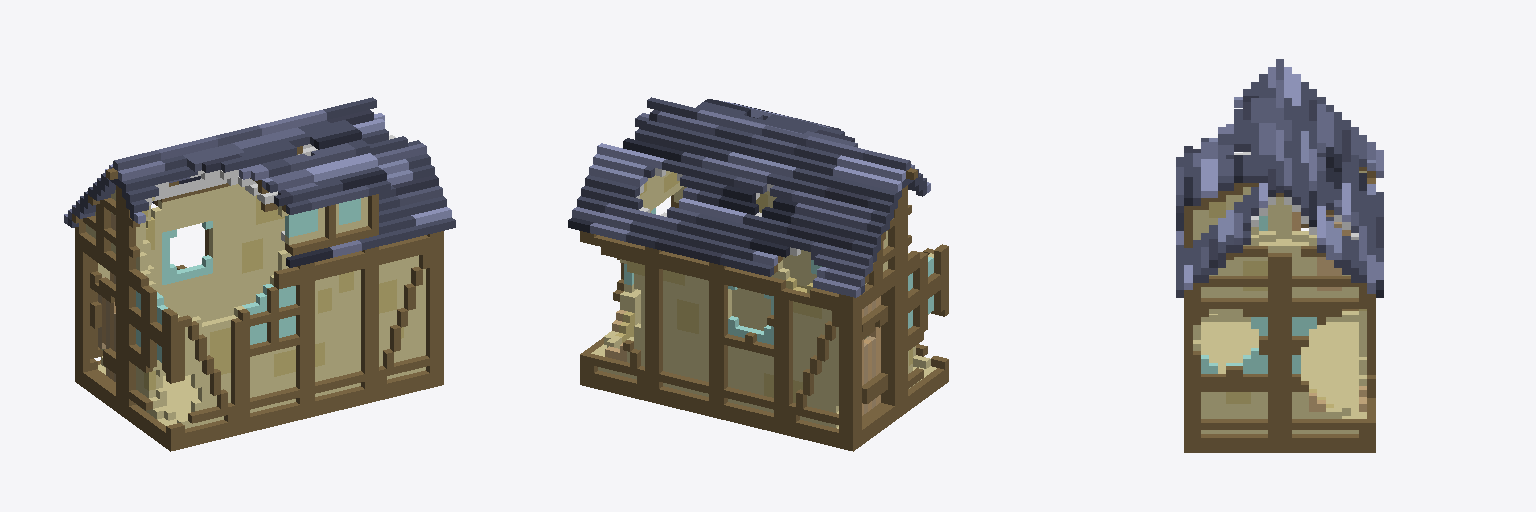
The picture shows the model from 3 angles: view 1: azimuth 30°, elevation 25°; view 2: azimuth 150°, elevation 25°; view 3: azimuth 270°, elevation 25°; orthographic projection.
Visible parts, largest first — view 1: object 1; view 2: object 1; view 3: object 1.
Part boxes in pixels (left/top/right/bottom): object 1: left=64, top=97, right=455, bottom=451; object 1: left=568, top=97, right=948, bottom=451; object 1: left=1176, top=59, right=1383, bottom=452.
Bounding box in the file's own units: 4.1 × 3.4 × 2.5.
1 materials, 1 textured.